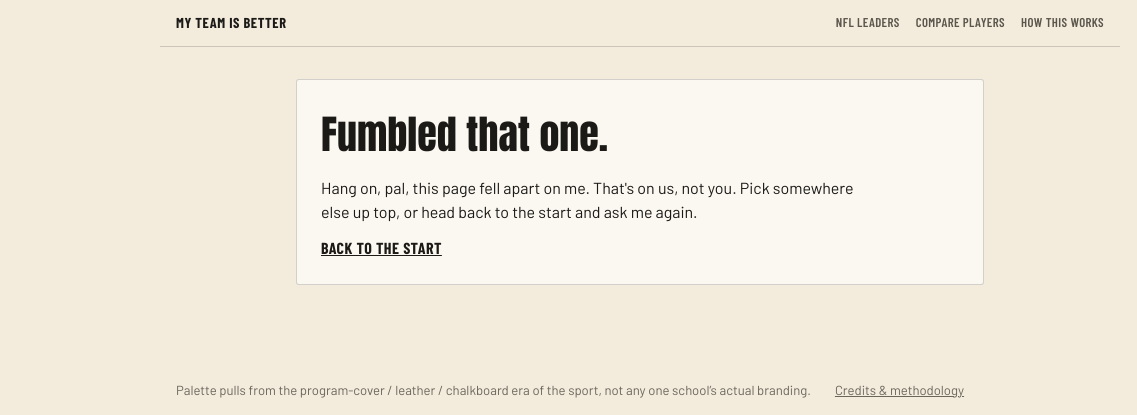
AppShell route error boundary (issue #268) › resets when the visitor navigates to another route
Check: the message is shown, box [296,79,984,285]
Click the link "How This Works" at (1062, 23), box [1021,13,1104,32]
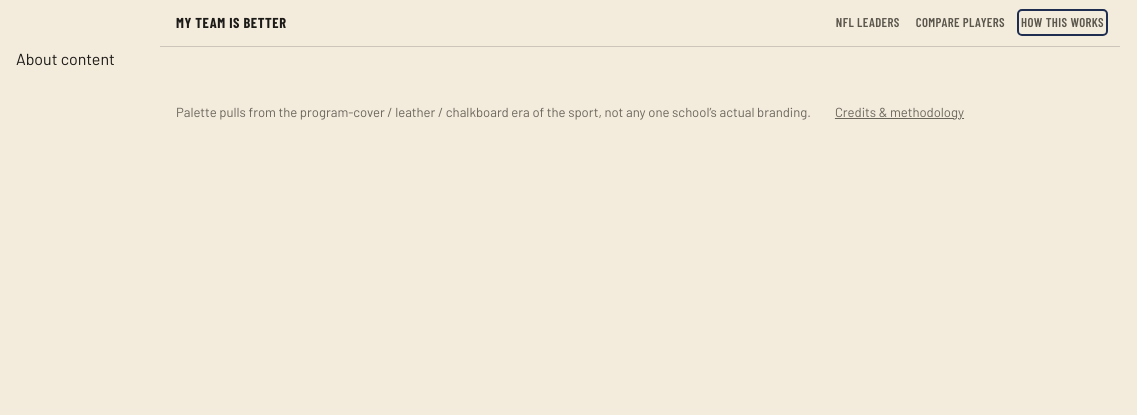
Check: the text "About content" is shown, box [16,49,115,68]
Check: the message is gone
